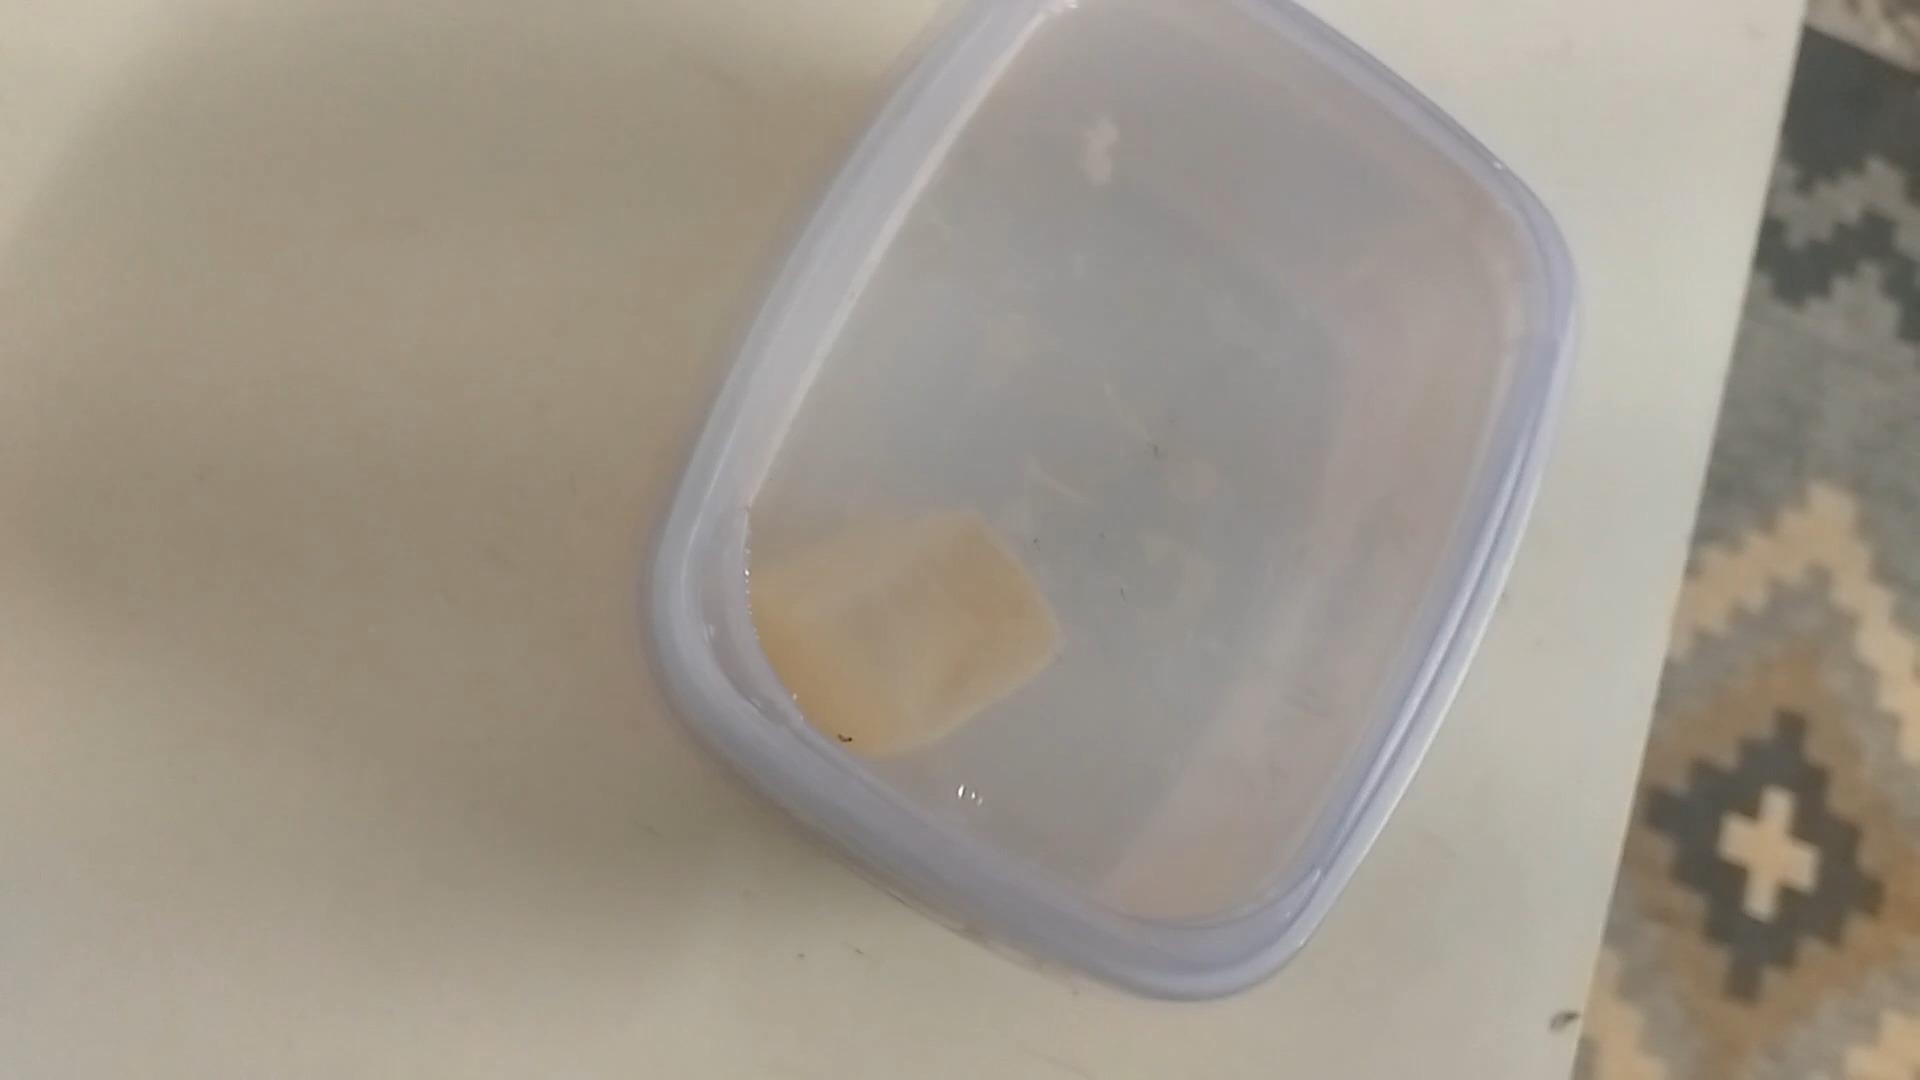butter: (642, 3, 1559, 1001)
